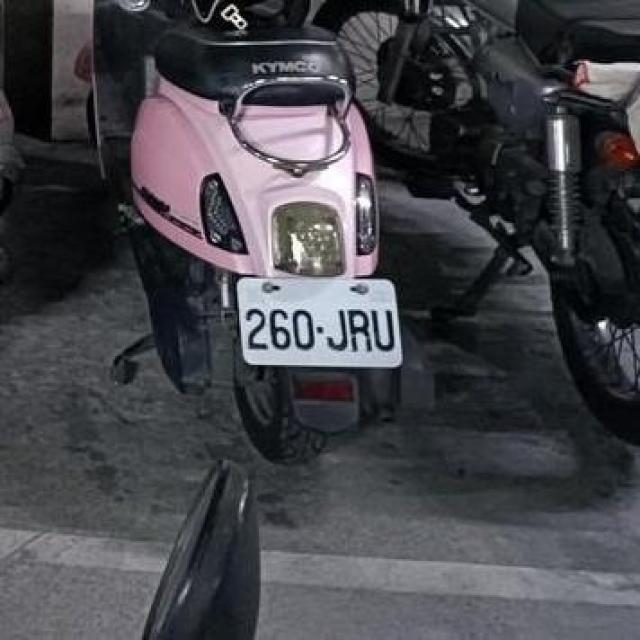W: (226, 264, 410, 380)
